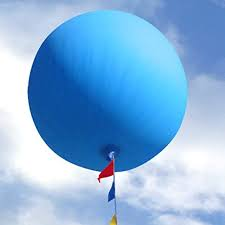Balloon: (28, 10, 189, 173)
